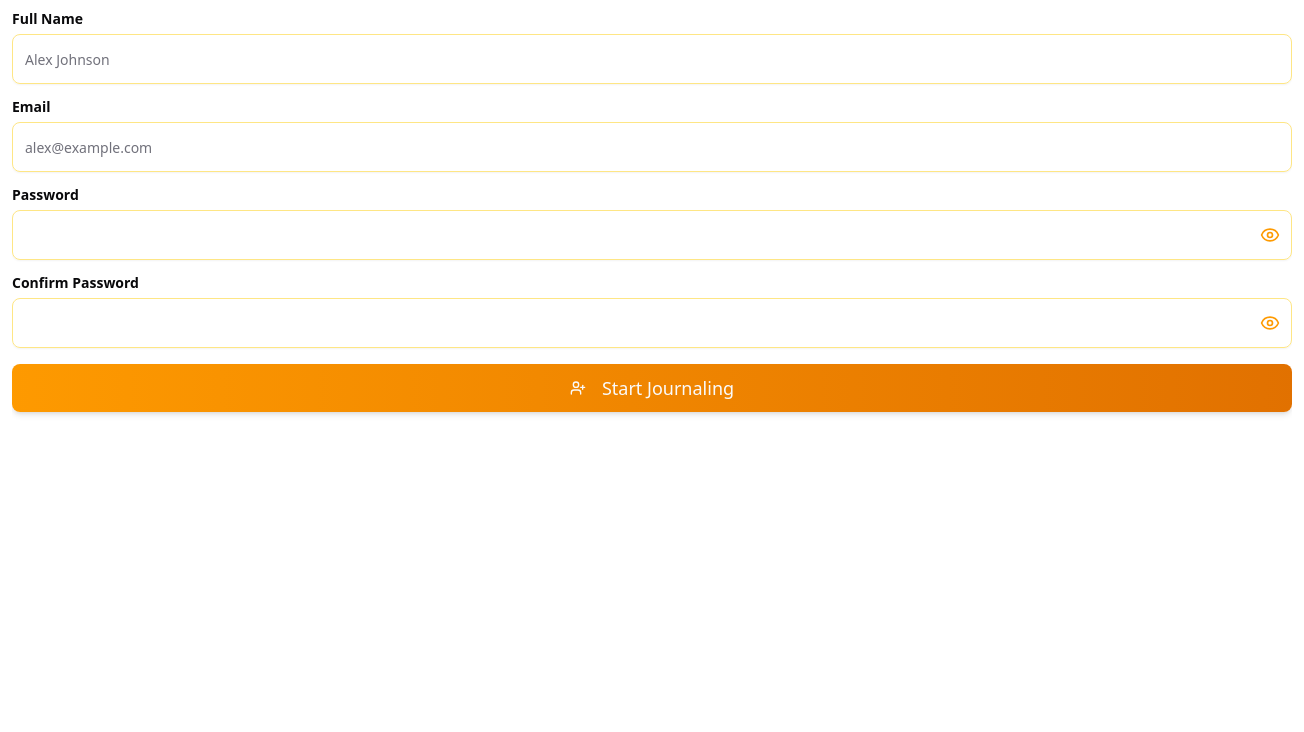
Test case: RegistrationForm › Frontend Validation Error › shows validation errors for empty form submission
The image size is (1304, 732).
What coordinates should you click on to do the following:
click the button "Start Journaling"
I would click on:
 (652, 388)
Its box is [12,364,1292,412].
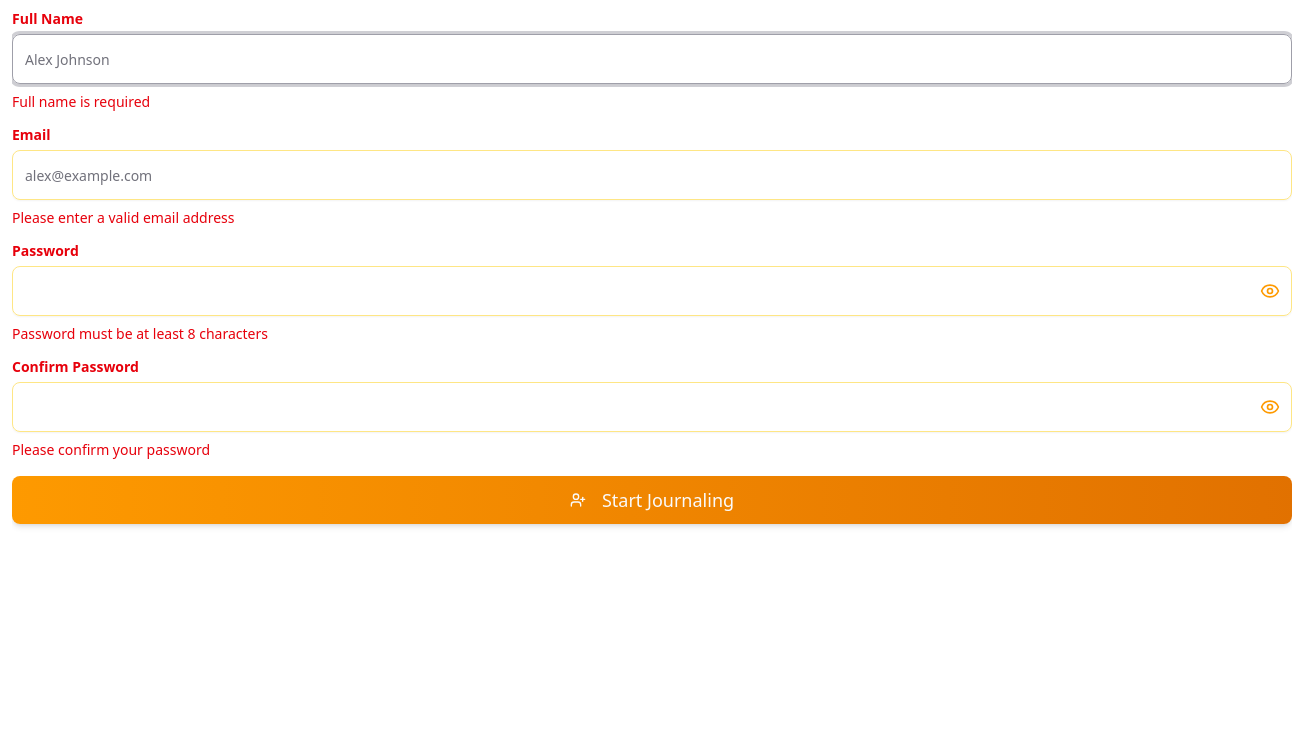
Check: the text "Full name is required" is shown, box [12,92,150,111]
Check: the text "Please enter a valid email address" is shown, box [12,208,234,227]
Check: the text "Password must be at least 8 characters" is shown, box [12,324,268,343]
